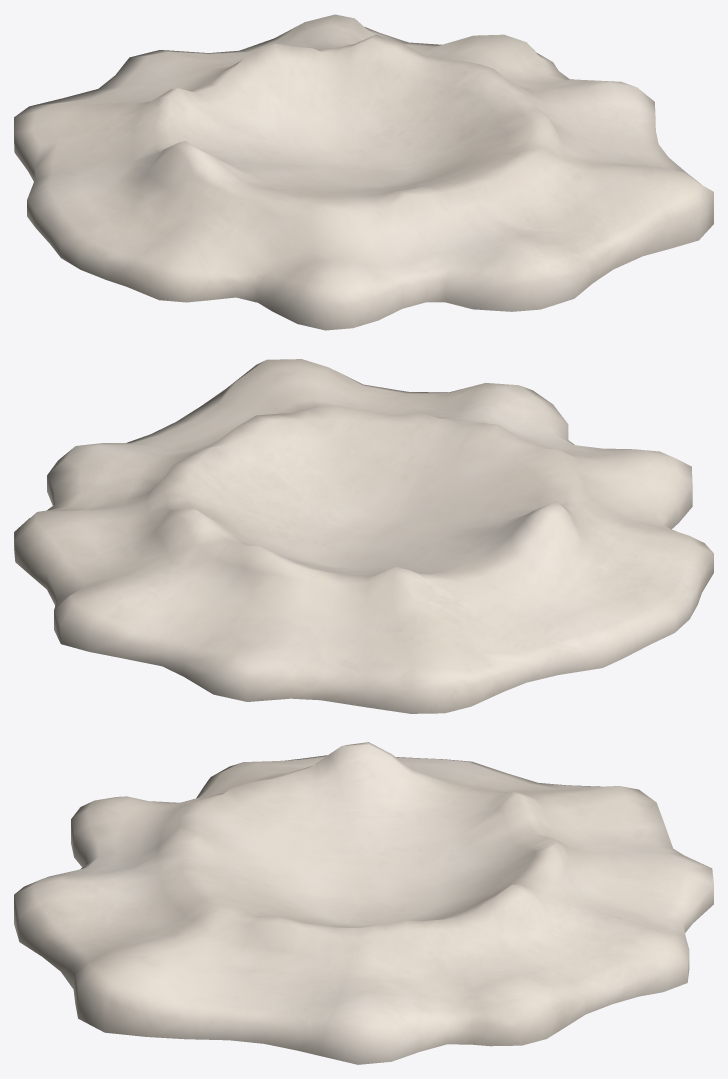
Rendered from Object_save.fbx.
The picture shows the model from 3 angles, top to bottom: view 1: azimuth 30°, elevation 25°; view 2: azimuth 150°, elevation 25°; view 3: azimuth 270°, elevation 25°; orthographic projection. The views are drawn at different scales.
Parts seen in each view (by area): view 1: RetopoFlow; view 2: RetopoFlow; view 3: RetopoFlow.
Boxes of the visible parts, x1,y1,x2,y2 form: RetopoFlow: (14,14,713,330); RetopoFlow: (14,359,713,713); RetopoFlow: (14,742,713,1064).
Size of the model in its own units: 166 by 23.23 by 167.
1 material, 1 textured.
